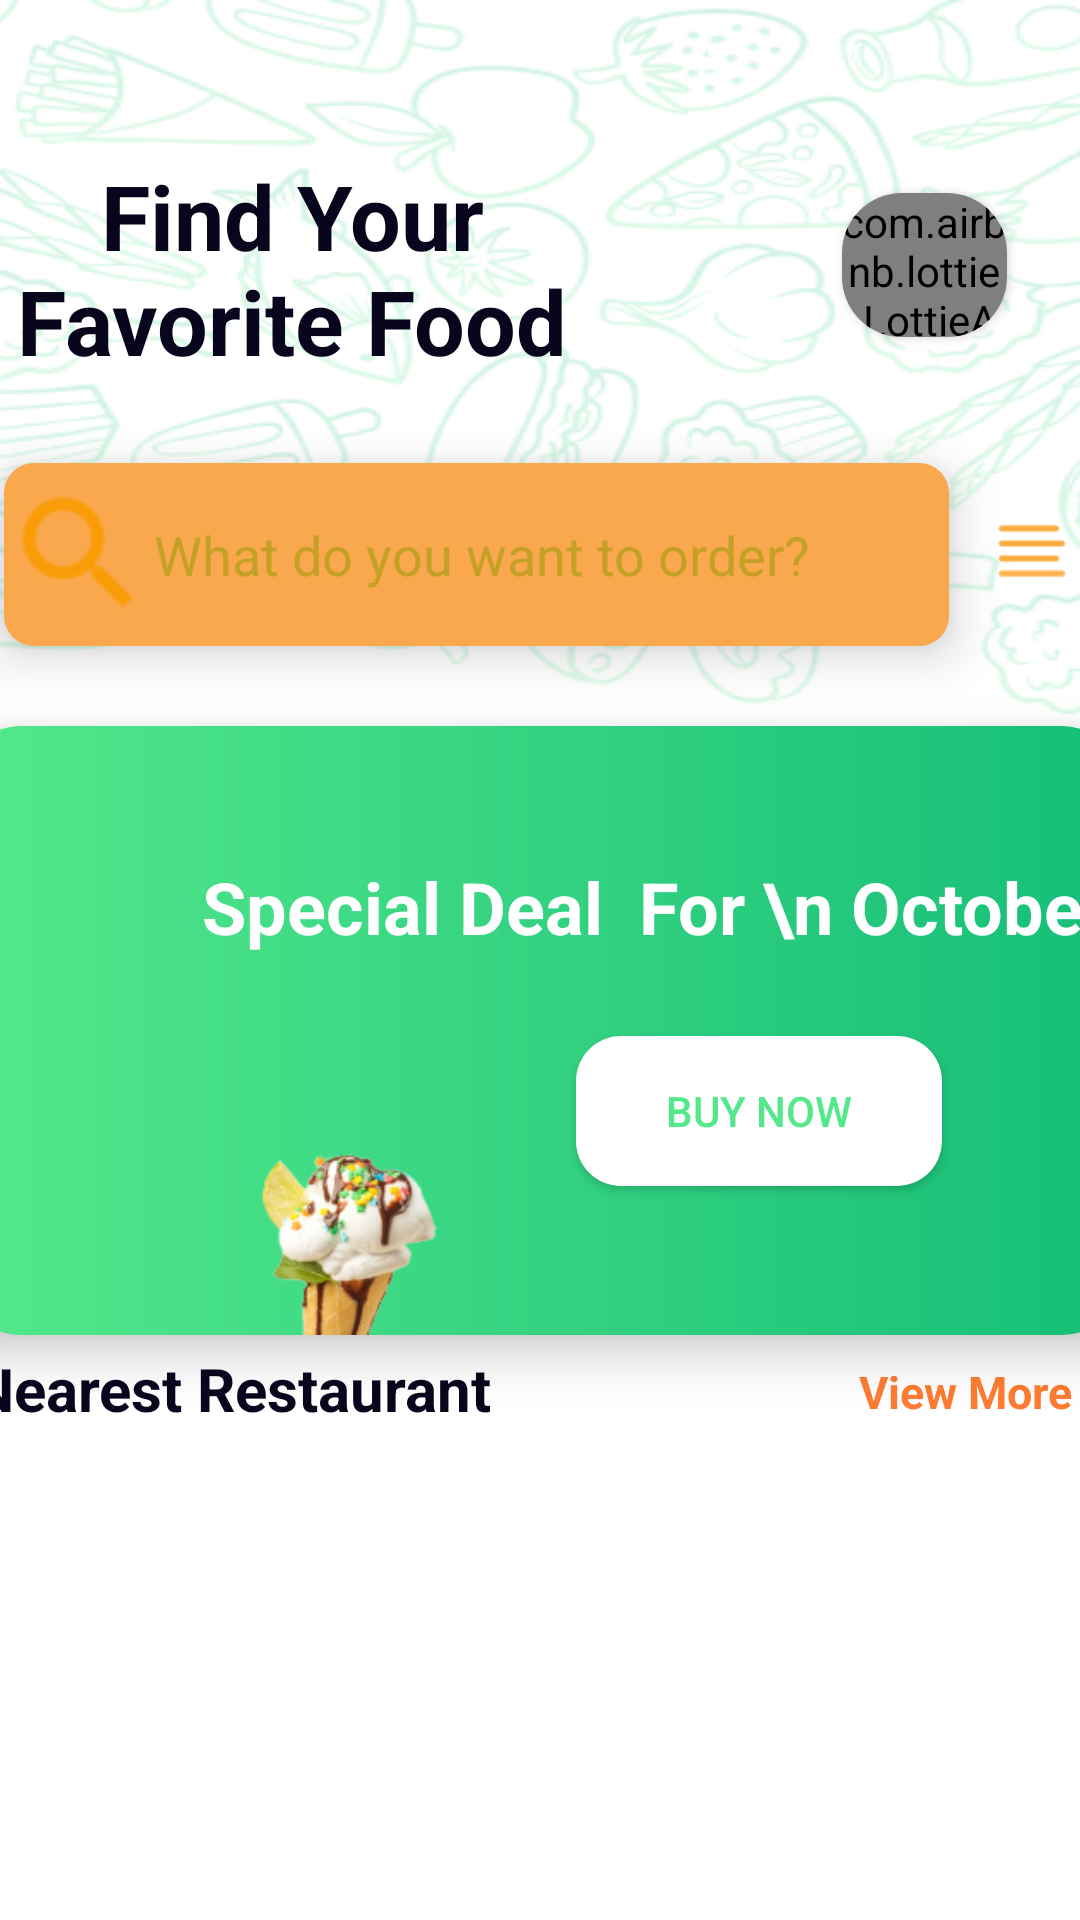

Icons on this 1080w x 1920h Android screen, each with the point to tap as (x=x, y=y):
option: (x=1032, y=551)
